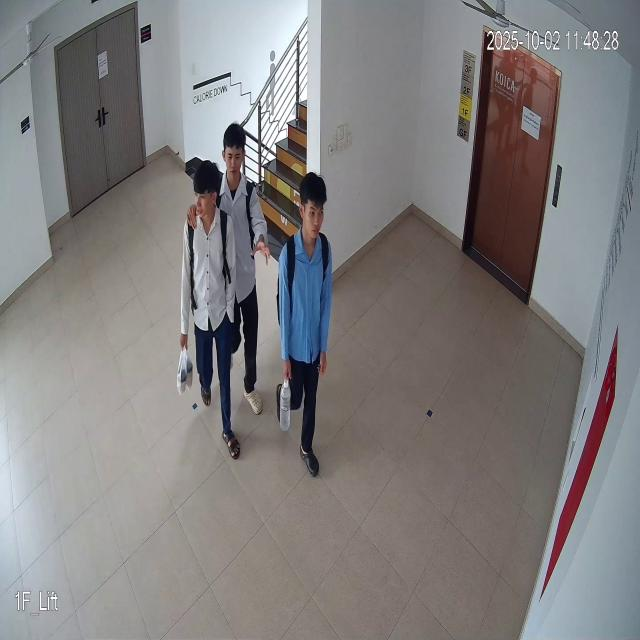face: (298, 170, 330, 246), (187, 160, 218, 228), (222, 123, 248, 185)
